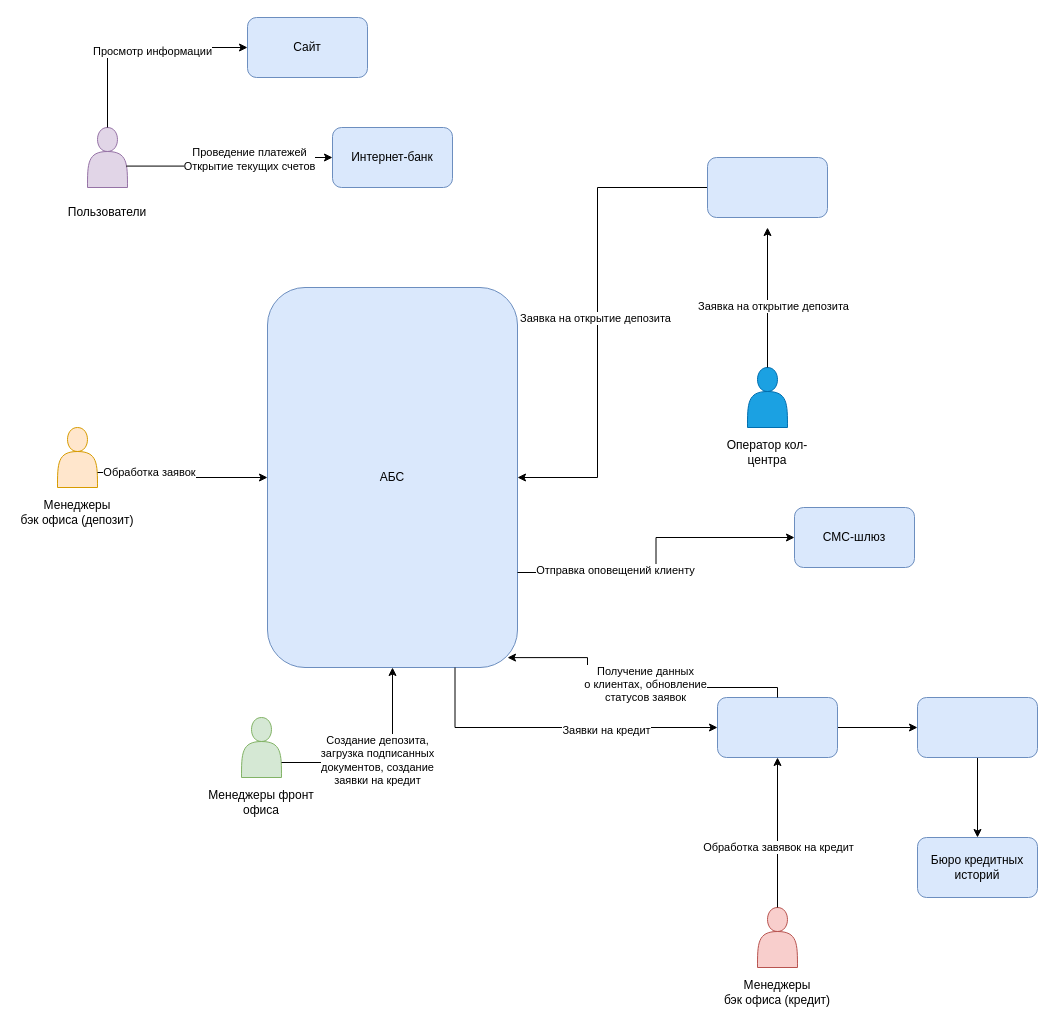
Image size: 1055x1025. Some labels were removed from this diagram. The centre of each missing label's shape, as x and y in pixels:
Кредитный конвейер (BPM): pixel 777 727
Система кол-центра: pixel 767 187
Система кредитного скоринга: pixel 977 727
